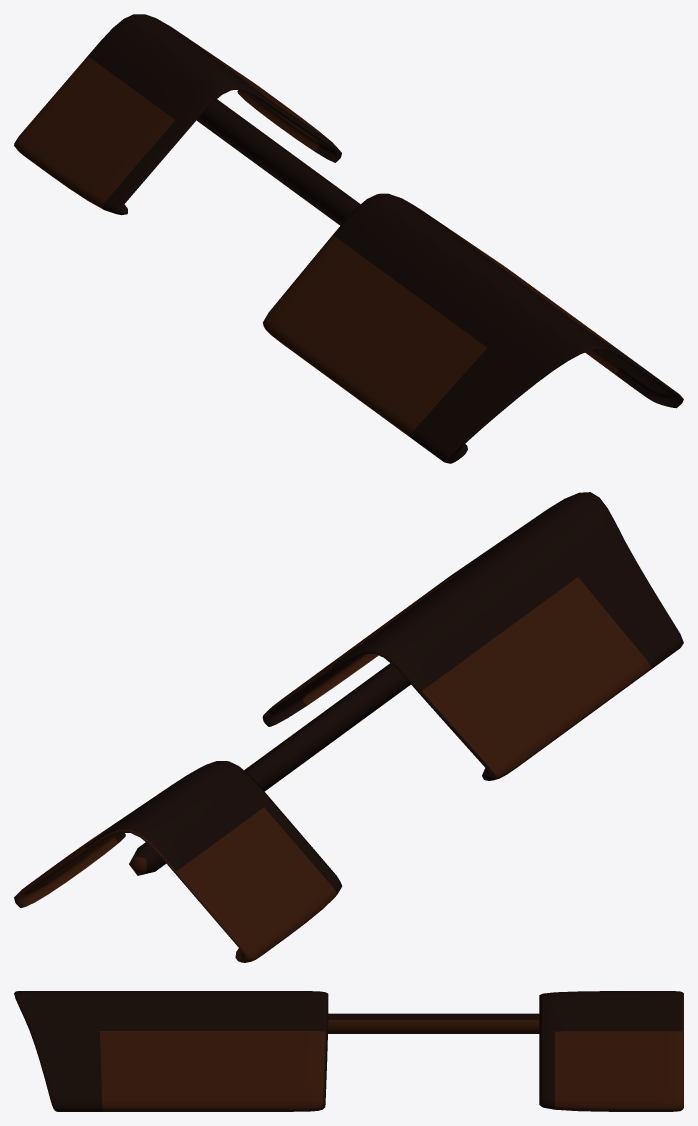
The model's file is Roof.fbx.
3 views of the same model, one above another, from view 1: azimuth 30°, elevation 25°; view 2: azimuth 150°, elevation 25°; view 3: azimuth 270°, elevation 25° (orthographic). The views are drawn at different scales.
Parts seen in each view (by area): view 1: Roof; view 2: Roof; view 3: Roof.
Part boxes in pixels (left/top/right/bottom): Roof: left=14, top=14, right=683, bottom=463; Roof: left=14, top=492, right=683, bottom=962; Roof: left=14, top=991, right=683, bottom=1111.
Bounding box in the file's own units: 786 × 338 × 2590.
